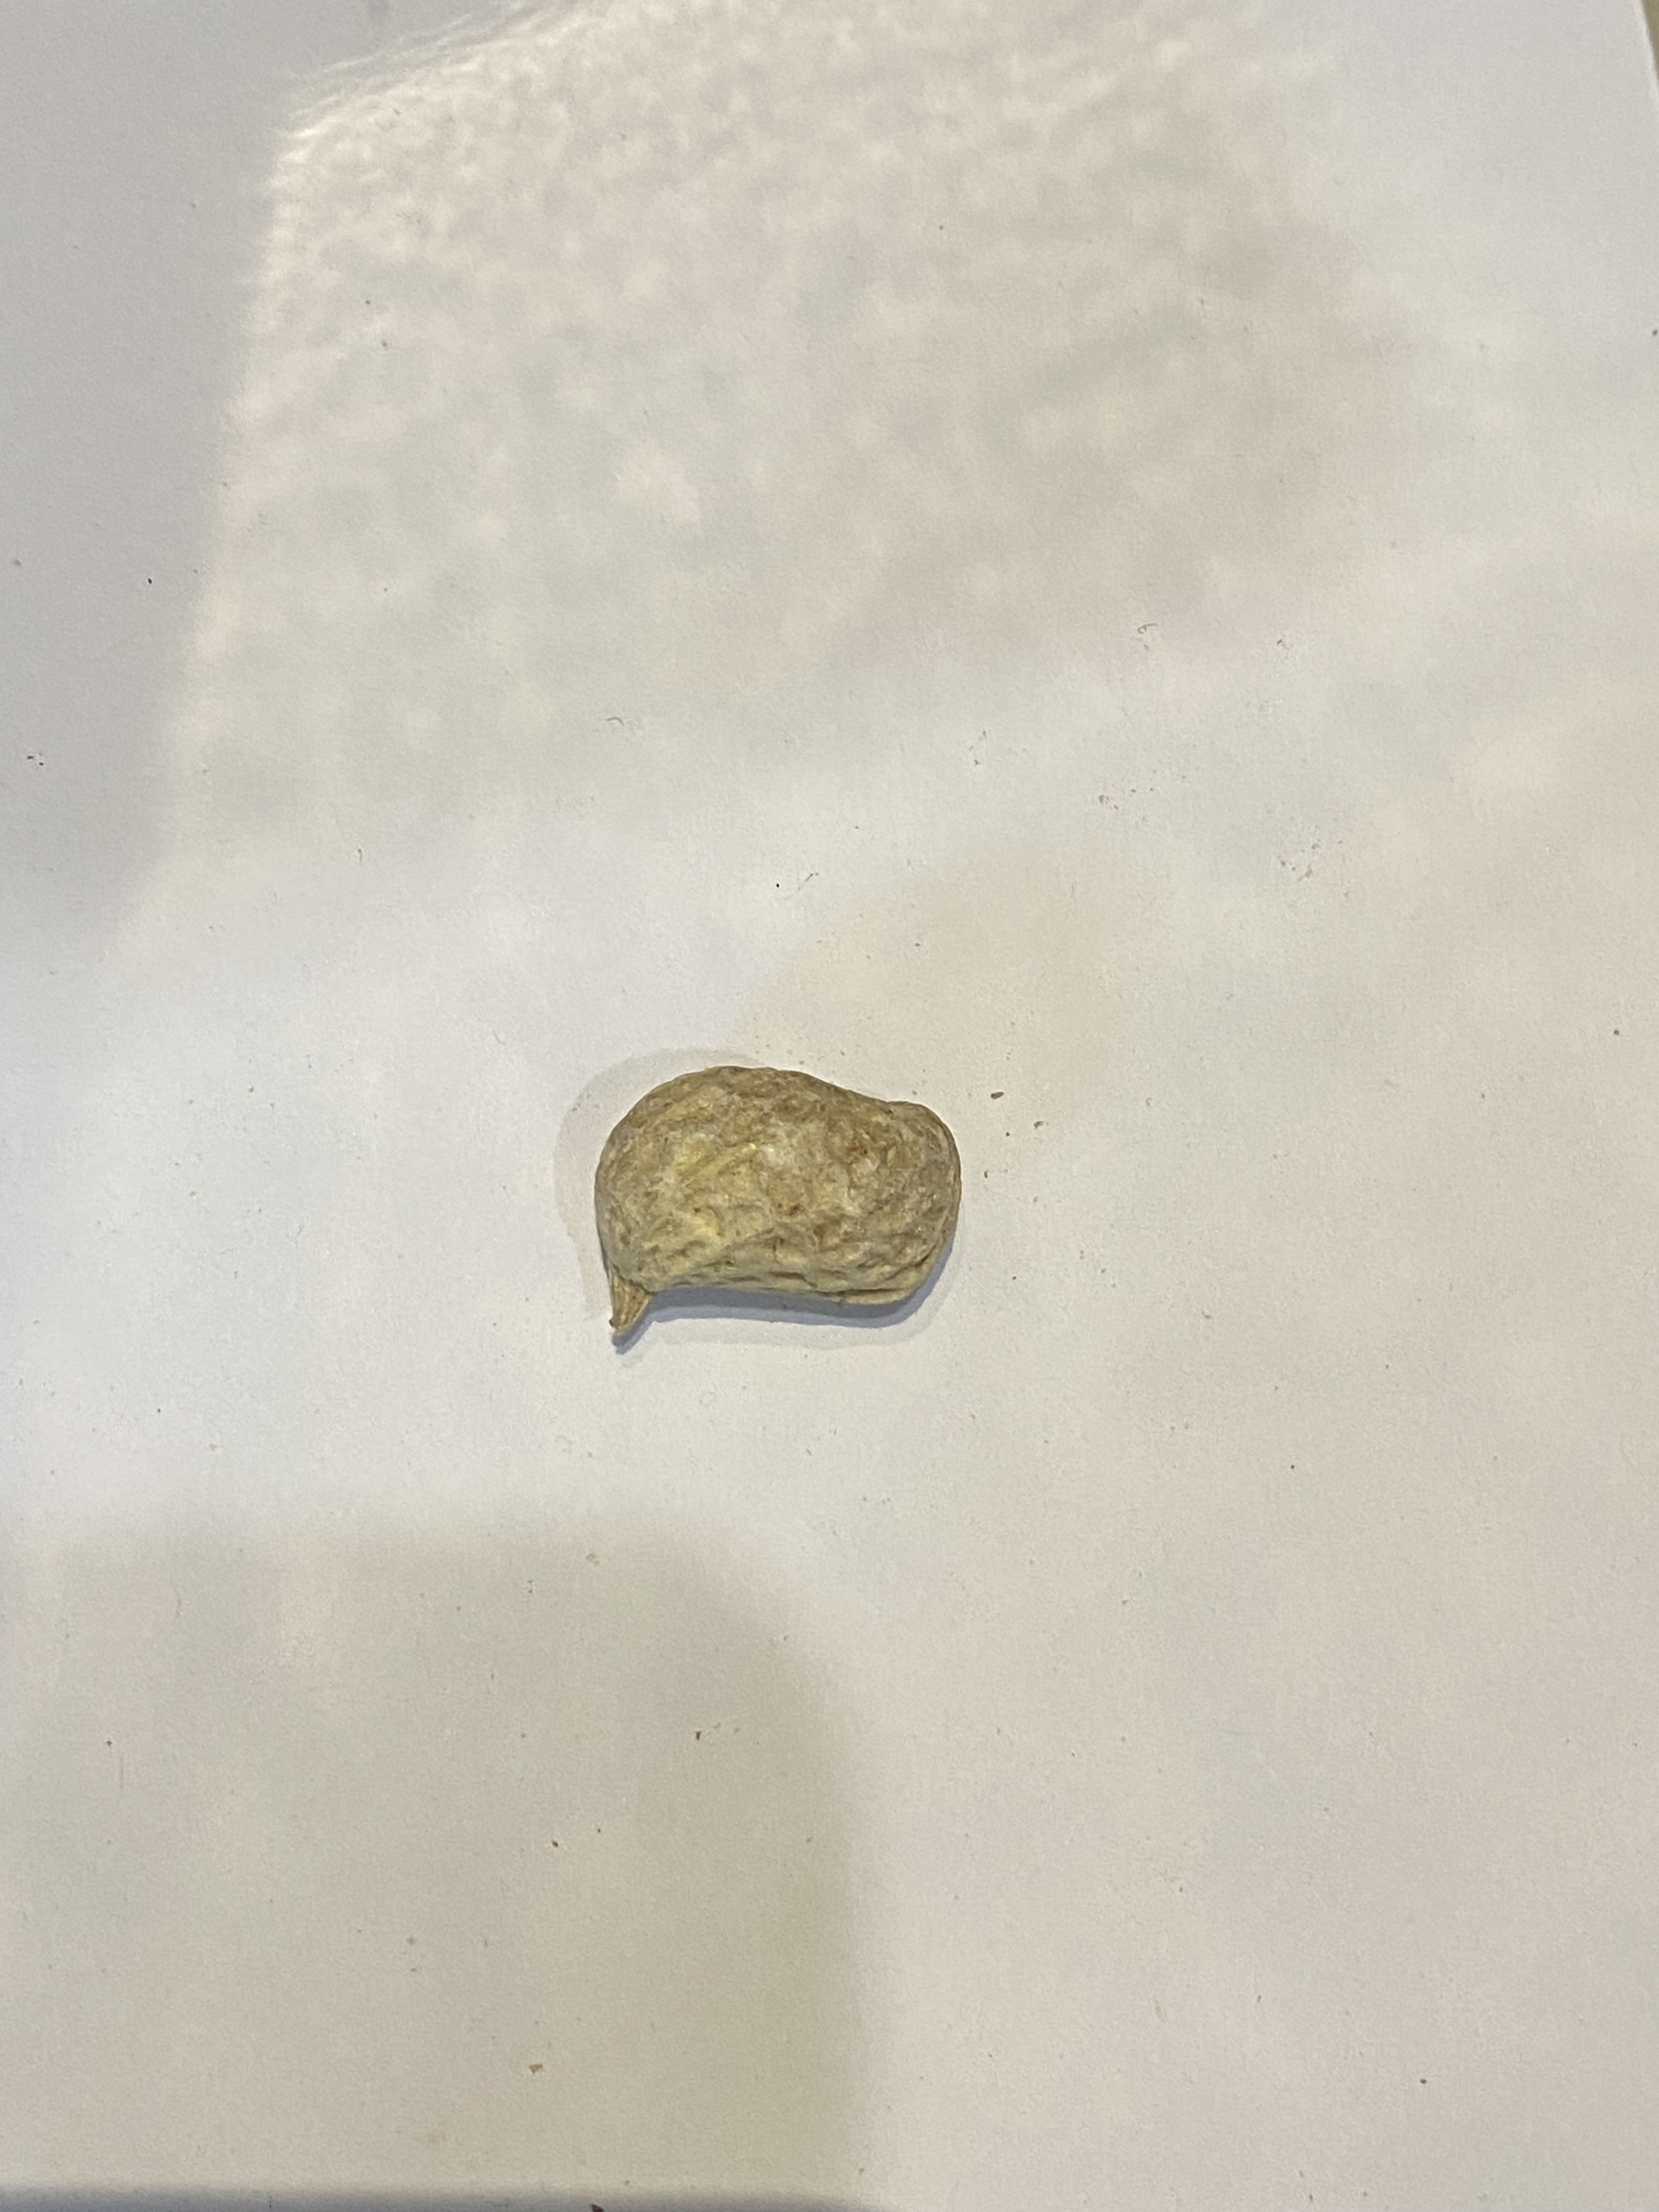kacang1: (523, 1057, 1026, 1343)
